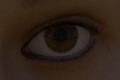eye: (45, 23, 79, 52)
